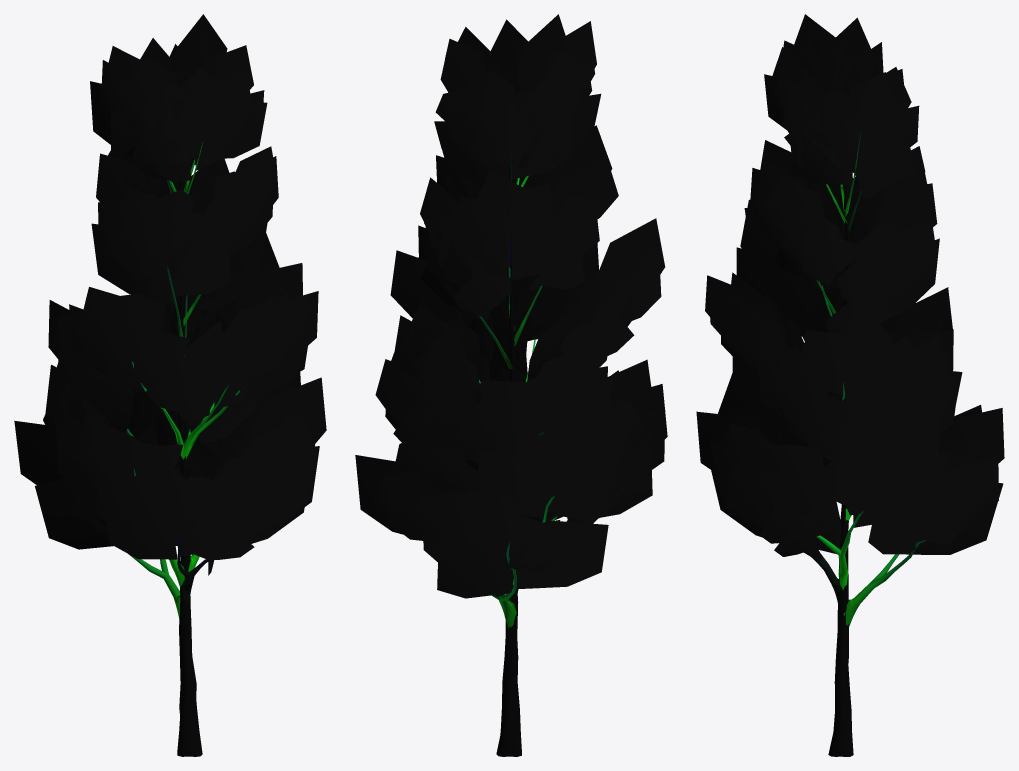
Rendered from Tree1.fbx.
3 views of the same model, side by side, from view 1: azimuth 30°, elevation 25°; view 2: azimuth 150°, elevation 25°; view 3: azimuth 270°, elevation 25° (orthographic). The views are drawn at different scales.
Visible parts, largest first — view 1: Tree1_LOD0; view 2: Tree1_LOD0; view 3: Tree1_LOD0.
Boxes of the visible parts, x1=… form: Tree1_LOD0: x1=14, y1=14, x2=326, y2=756; Tree1_LOD0: x1=355, y1=14, x2=667, y2=756; Tree1_LOD0: x1=696, y1=14, x2=1004, y2=756.
Size of what is drawn, in the model's own units: 3.04 by 8.59 by 3.38.
